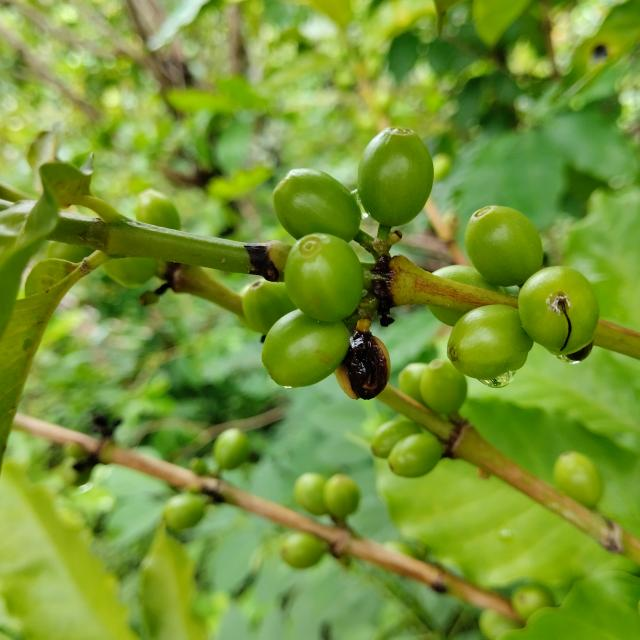green: (358, 127, 434, 226), (519, 266, 600, 355), (284, 233, 364, 322), (262, 309, 350, 388), (448, 305, 534, 380), (273, 168, 361, 241), (466, 205, 544, 286), (242, 279, 297, 335), (555, 452, 604, 509), (420, 359, 468, 414), (388, 432, 443, 478), (371, 415, 421, 459), (433, 265, 505, 293), (134, 188, 180, 230), (280, 533, 327, 569), (101, 258, 157, 288), (162, 493, 205, 532), (323, 474, 360, 519), (212, 428, 250, 470), (512, 586, 554, 621), (294, 473, 328, 516), (399, 363, 428, 404), (428, 305, 466, 326)
red: (335, 330, 391, 400)
